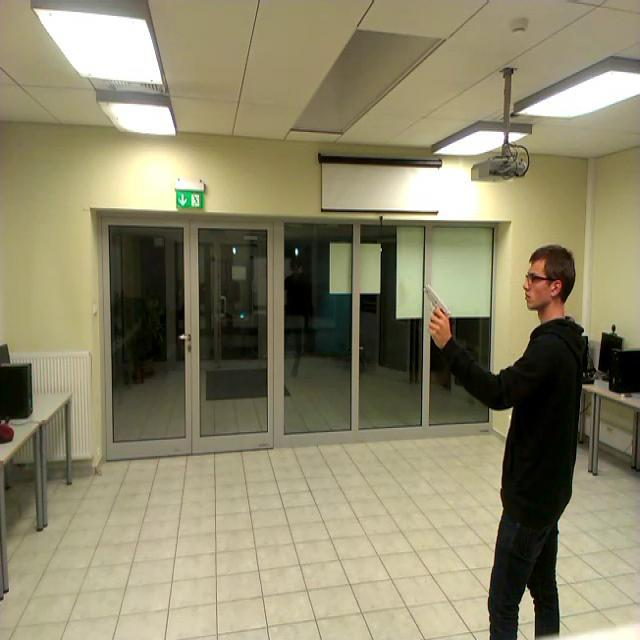Gun: (425, 282, 451, 336)
